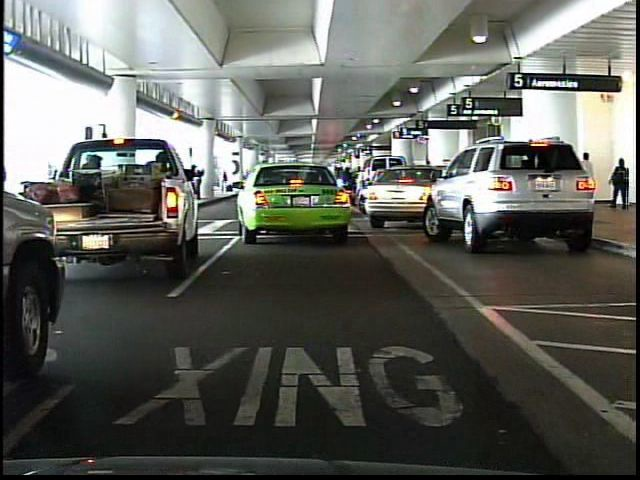person: (610, 158, 635, 215)
